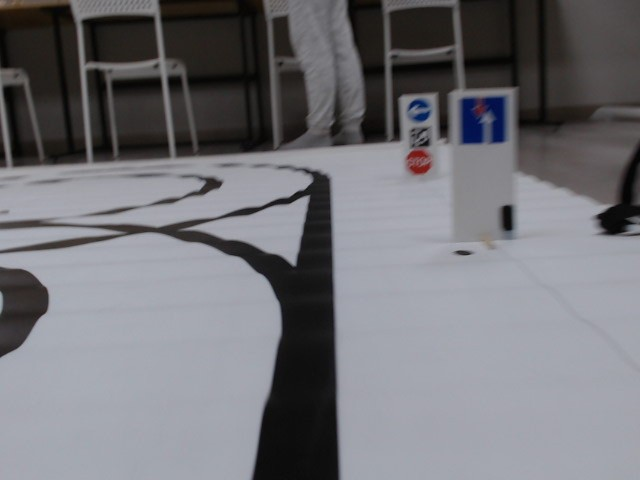Stop: (406, 150, 431, 173)
priority_movement: (457, 93, 510, 144)
